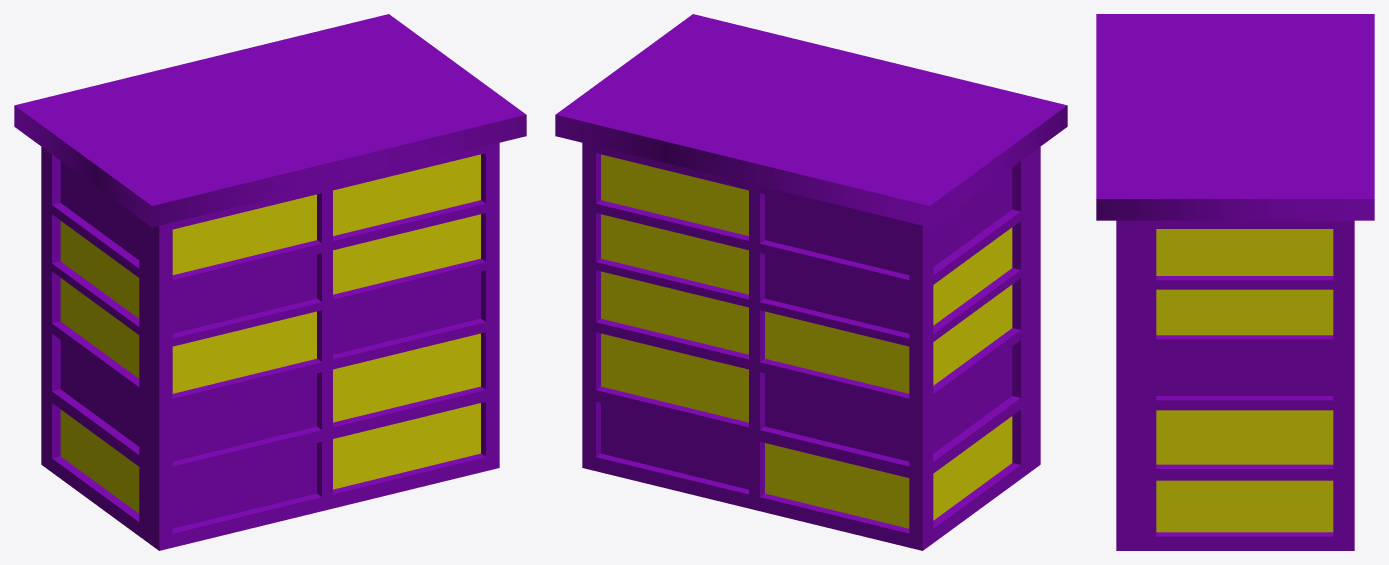
File: Building_Medium_Side_001.fbx
The picture shows the model from 3 angles, left to right: view 1: azimuth 30°, elevation 25°; view 2: azimuth 150°, elevation 25°; view 3: azimuth 270°, elevation 25°; orthographic projection.
Visible parts, largest first — view 1: Building_Medium_Side_001; view 2: Building_Medium_Side_001; view 3: Building_Medium_Side_001.
Part boxes in pixels (left/top/right/bottom): Building_Medium_Side_001: left=14, top=14, right=526, bottom=550; Building_Medium_Side_001: left=555, top=14, right=1067, bottom=550; Building_Medium_Side_001: left=1096, top=14, right=1374, bottom=550.
Bounding box in the file's own units: 4400 × 4000 × 2800.
